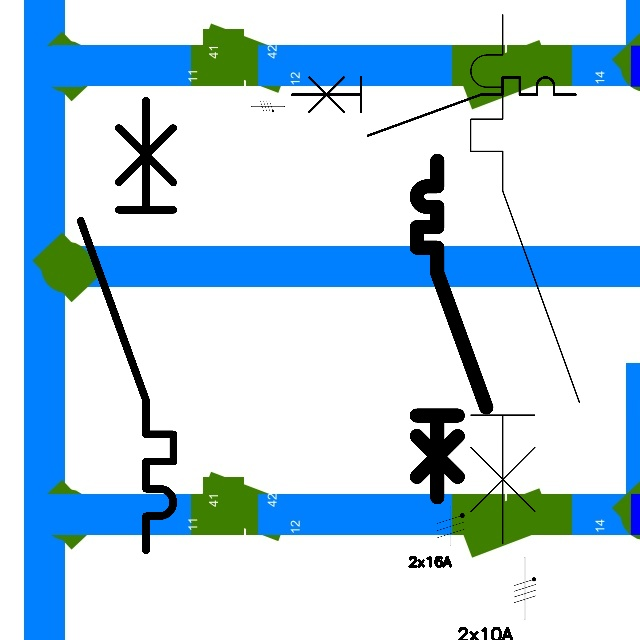interruptor_termomagnetico: (457, 1, 593, 557), (69, 89, 185, 562), (408, 152, 494, 506), (284, 70, 582, 143)
